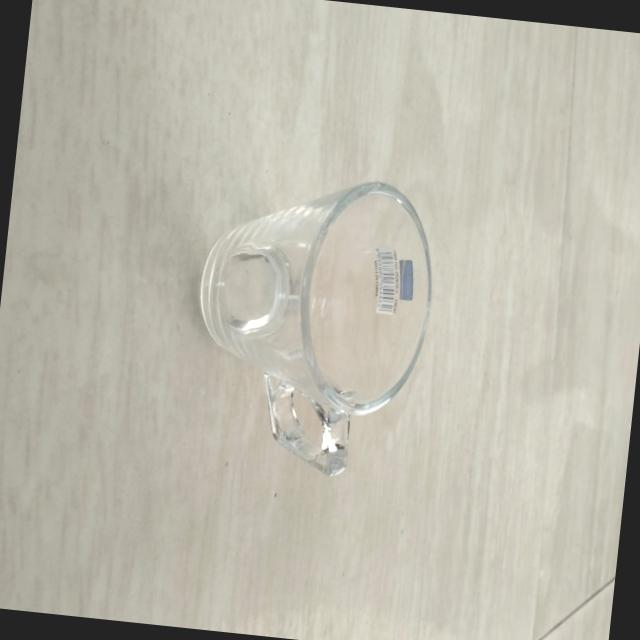glass-VX4N: (175, 158, 448, 486)
